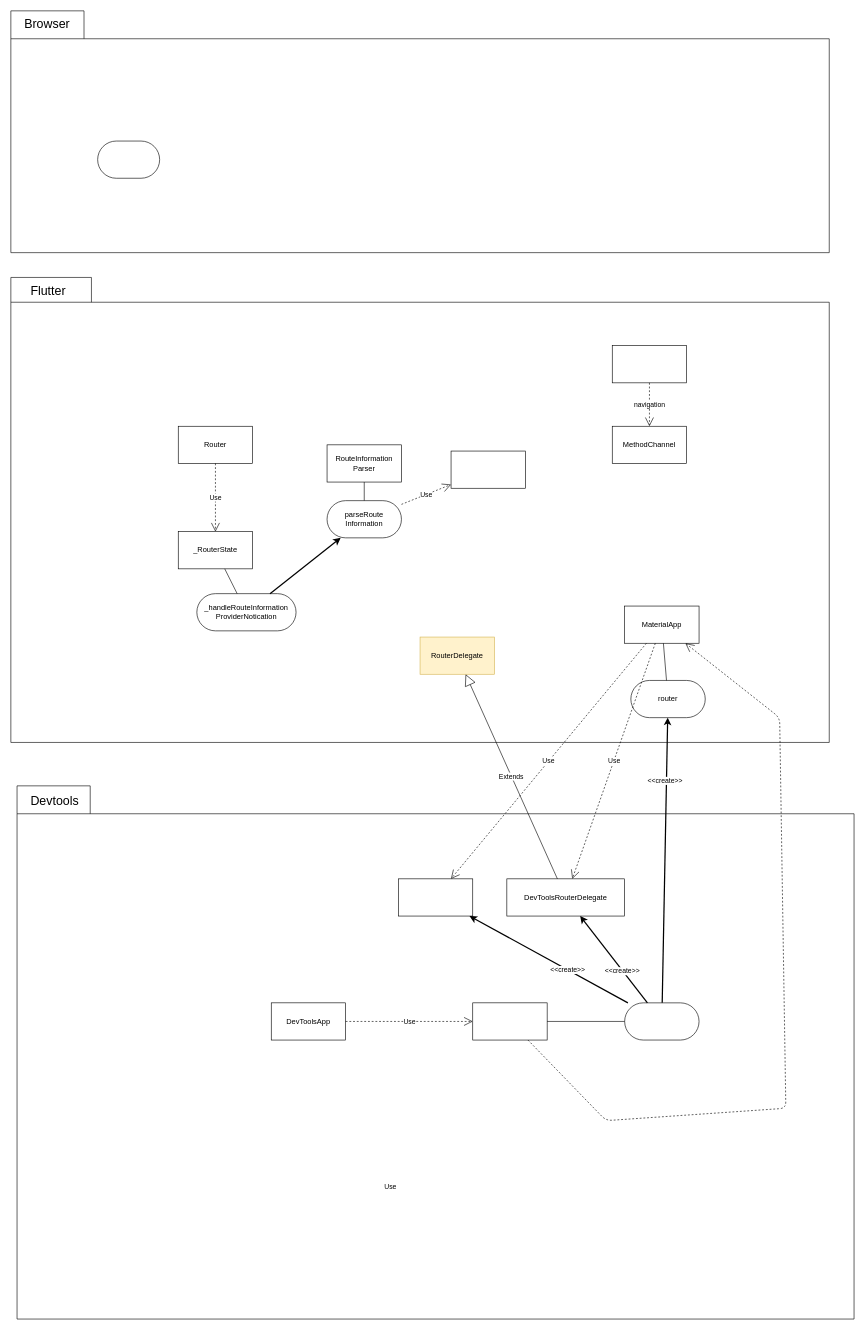
Image size: 865x1330. Some labels were removed from this diagram. Each missing label, with the centre of its shape:
build: pixel 661 1021
DevToolsAppState: pixel 509 1021
DevToolsRoute InformationParser: pixel 435 897
RouteInformation Provider: pixel 487 469
SystemChannels: pixel 649 364
